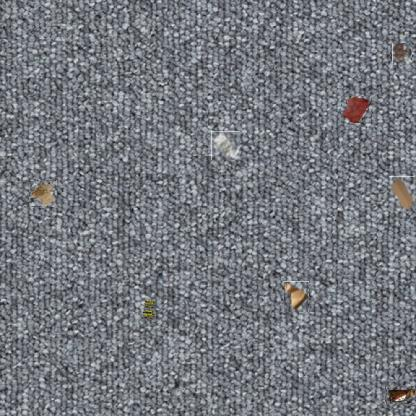dirty: (389, 176, 415, 211), (211, 131, 240, 160), (284, 281, 310, 312), (30, 180, 57, 206), (386, 386, 416, 404), (140, 300, 156, 320)
liquid: (341, 95, 371, 124), (391, 44, 412, 65)
